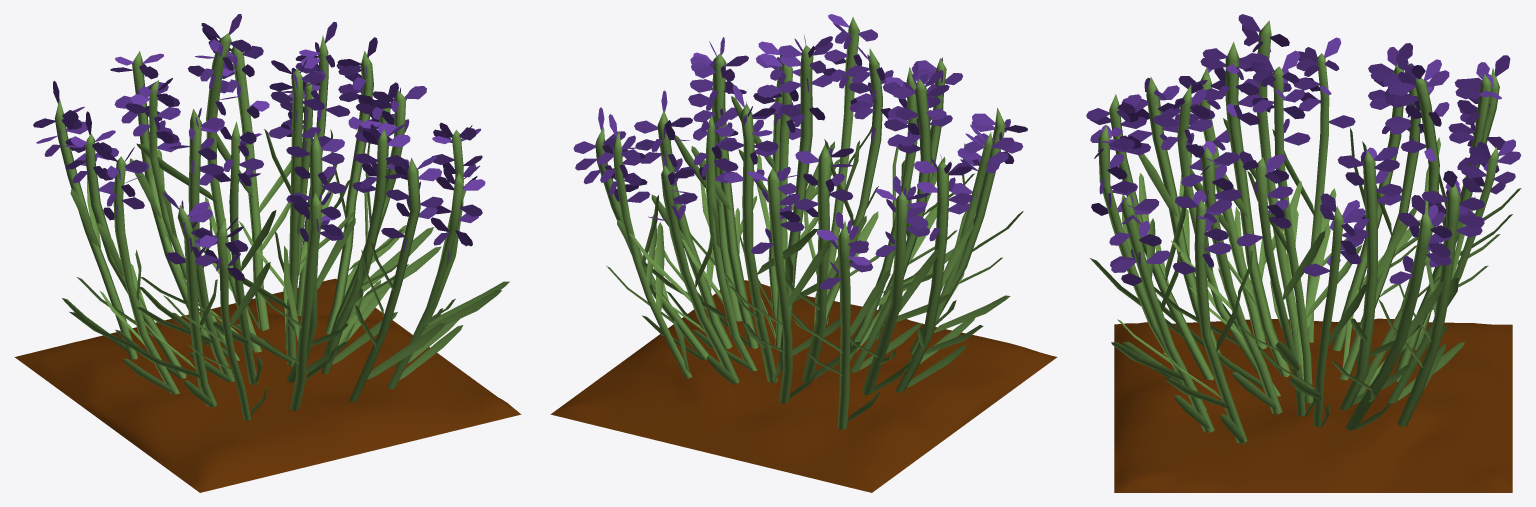
File: lavender-p2-bloom.glb
The picture shows the model from 3 angles, left to right: view 1: azimuth 30°, elevation 25°; view 2: azimuth 150°, elevation 25°; view 3: azimuth 270°, elevation 25°; orthographic projection. The views are drawn at different scales.
Visible parts, largest first — view 1: 2_nft_bloom; view 2: 2_nft_bloom; view 3: 2_nft_bloom.
Boxes of the visible parts, x1,y1,x2,y2 form: 2_nft_bloom: (14,14,521,492); 2_nft_bloom: (550,14,1057,492); 2_nft_bloom: (1086,14,1521,492).
Size of the model in its own units: 0.7888 by 0.6915 by 0.7653.
